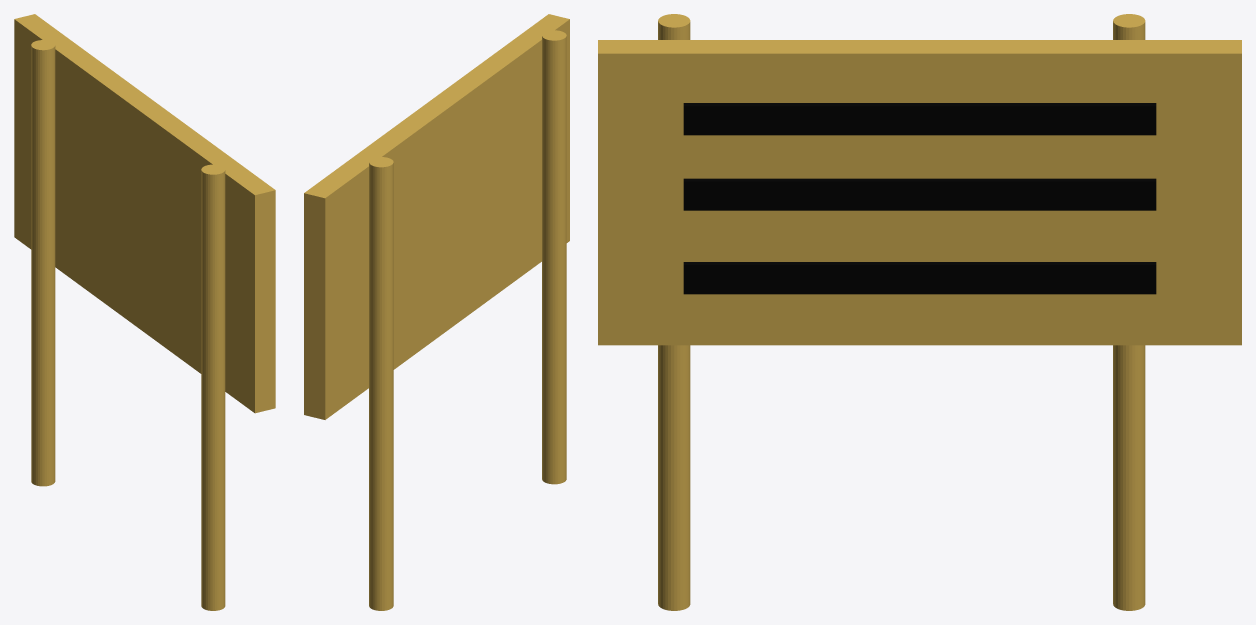
Rendered from sign.glb.
3 views of the same model, side by side, from view 1: azimuth 30°, elevation 25°; view 2: azimuth 150°, elevation 25°; view 3: azimuth 270°, elevation 25° (orthographic). The views are drawn at different scales.
Visible parts, largest first — view 1: Cube.002; view 2: Cube.002; view 3: Cube.002.
Boxes of the visible parts, x1=… form: Cube.002: x1=14, y1=14, x2=275, y2=610; Cube.002: x1=304, y1=14, x2=569, y2=610; Cube.002: x1=598, y1=14, x2=1241, y2=610.
Bounding box in the file's own units: 0.471 × 4 × 4.
